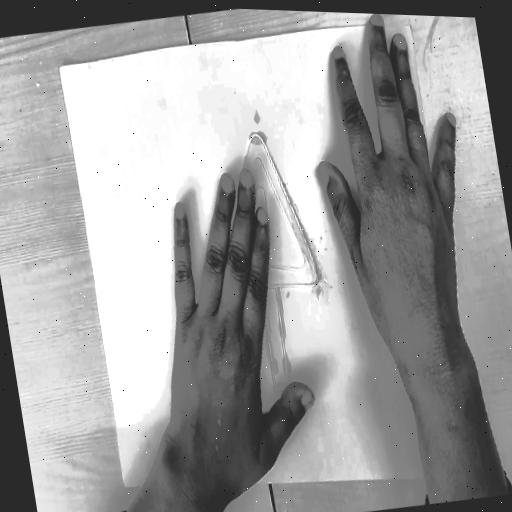bottom_left: (119, 472, 132, 498)
bottom_right: (459, 458, 469, 475)
signboard: (200, 122, 351, 434)
top_left: (53, 58, 67, 77)
top_right: (403, 15, 414, 34)
